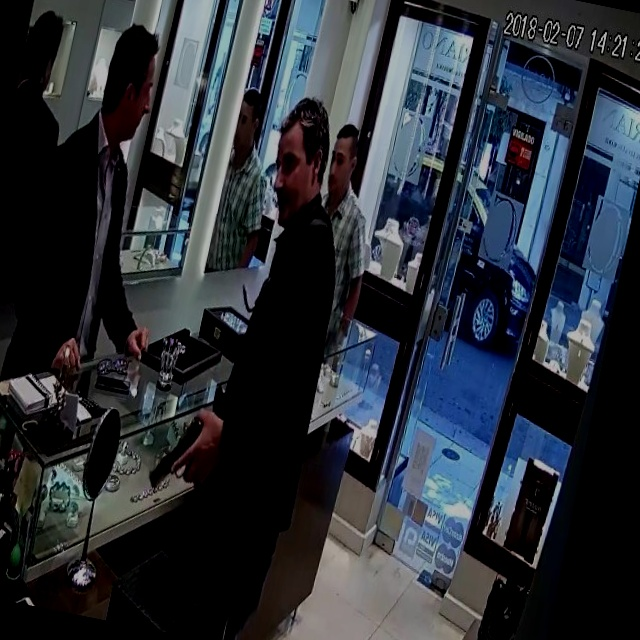gun: (133, 380, 228, 520)
